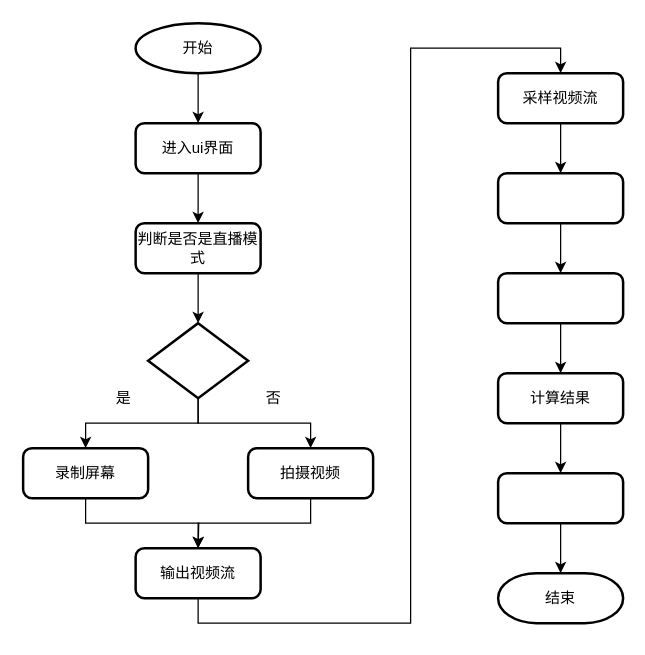
Some shapes in this 645 by 655 pixel diagram are drawn without their labels. The shapes that lost their labels are listed below. From the top down, each one's centre as x and y in pixels, then its label:
point 560,197: 获取图片帧
point 560,297: 调用离线视觉库
point 197,360: 直播？
point 560,497: 通知MCU
